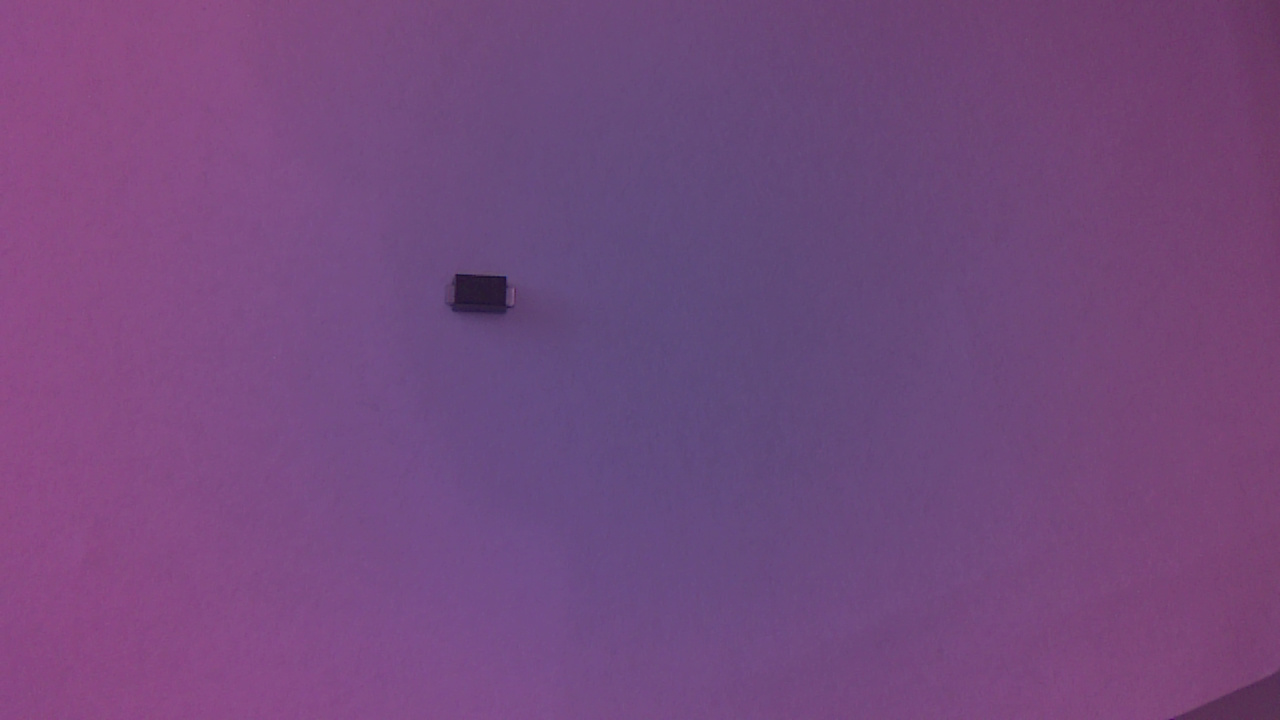Diode: (441, 275, 530, 328)
